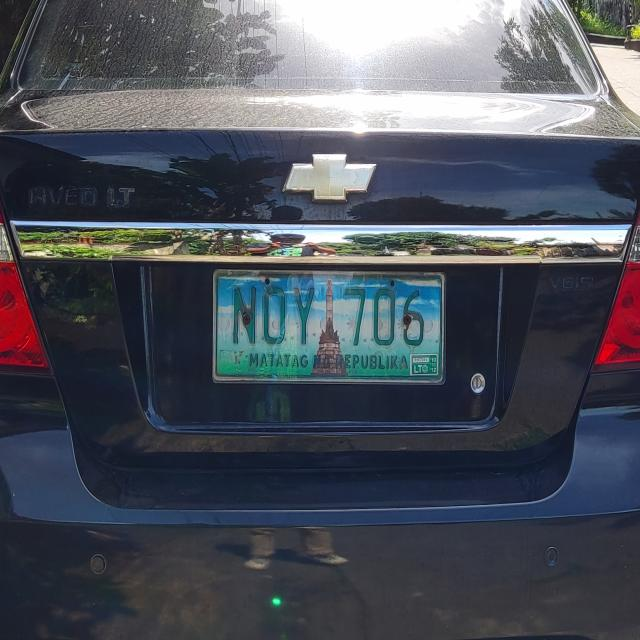plate: (210, 267, 448, 387)
